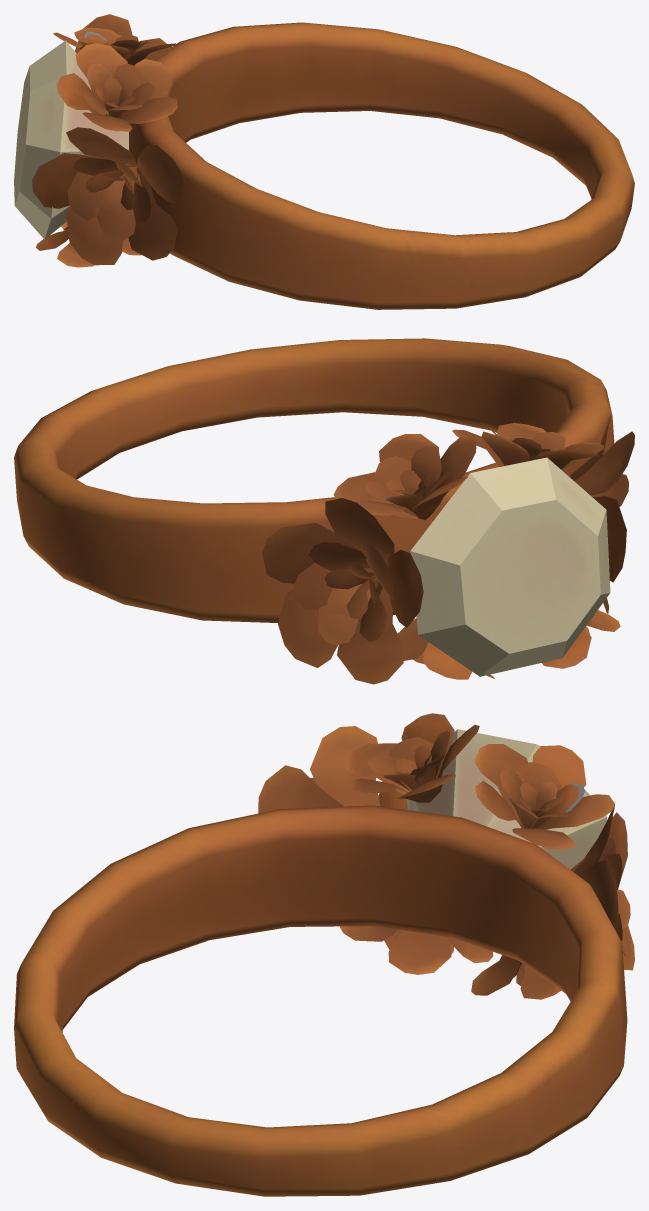
The model's file is TRINKET_Ring Variant.fbx.
The picture shows the model from 3 angles, top to bottom: view 1: azimuth 30°, elevation 25°; view 2: azimuth 150°, elevation 25°; view 3: azimuth 270°, elevation 25°; orthographic projection. The views are drawn at different scales.
Visible parts, largest first — view 1: ring, ringFlower5, ringDiamond, ringFlower4, ringFlower3, ringFlower1, ringFlower; view 2: ring, ringDiamond, ringFlower, ringFlower3, ringFlower5, ringFlower4, ringFlower2, ringFlower1; view 3: ring, ringFlower3, ringFlower4, ringFlower5, ringDiamond, ringFlower, ringFlower1, ringFlower2.
Part boxes in pixels (x1,y1,x2,y2): ring: [129, 22, 634, 309]; ringFlower5: [32, 127, 183, 265]; ringDiamond: [14, 40, 128, 239]; ringFlower4: [56, 43, 177, 131]; ringFlower3: [53, 28, 175, 65]; ringFlower1: [36, 227, 141, 267]; ringFlower: [75, 14, 166, 53]; ring: [14, 338, 614, 622]; ringDiamond: [410, 457, 610, 676]; ringFlower: [262, 498, 423, 684]; ringFlower3: [333, 433, 476, 521]; ringFlower5: [569, 416, 634, 613]; ringFlower4: [452, 423, 603, 470]; ringFlower2: [397, 618, 494, 679]; ringFlower1: [542, 610, 620, 668]; ring: [14, 805, 627, 1196]; ringFlower3: [474, 744, 614, 849]; ringFlower4: [345, 713, 479, 803]; ringFlower5: [258, 726, 407, 813]; ringDiamond: [407, 729, 607, 869]; ringFlower: [570, 802, 634, 970]; ringFlower1: [339, 926, 493, 974]; ringFlower2: [471, 955, 561, 999].
Size of the model in its own units: 1.5 by 0.5423 by 1.28.
1 material, 1 textured.
